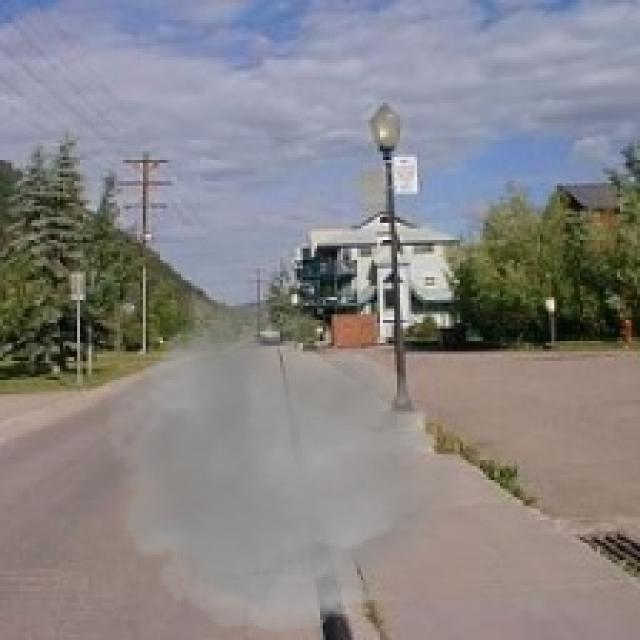Smoke: (88, 280, 486, 637)
